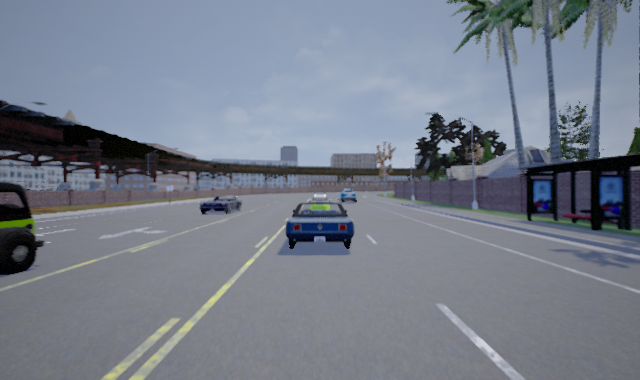vehicle: (1, 181, 45, 275), (284, 199, 355, 253), (197, 194, 243, 215), (308, 193, 331, 216), (339, 187, 356, 203)
